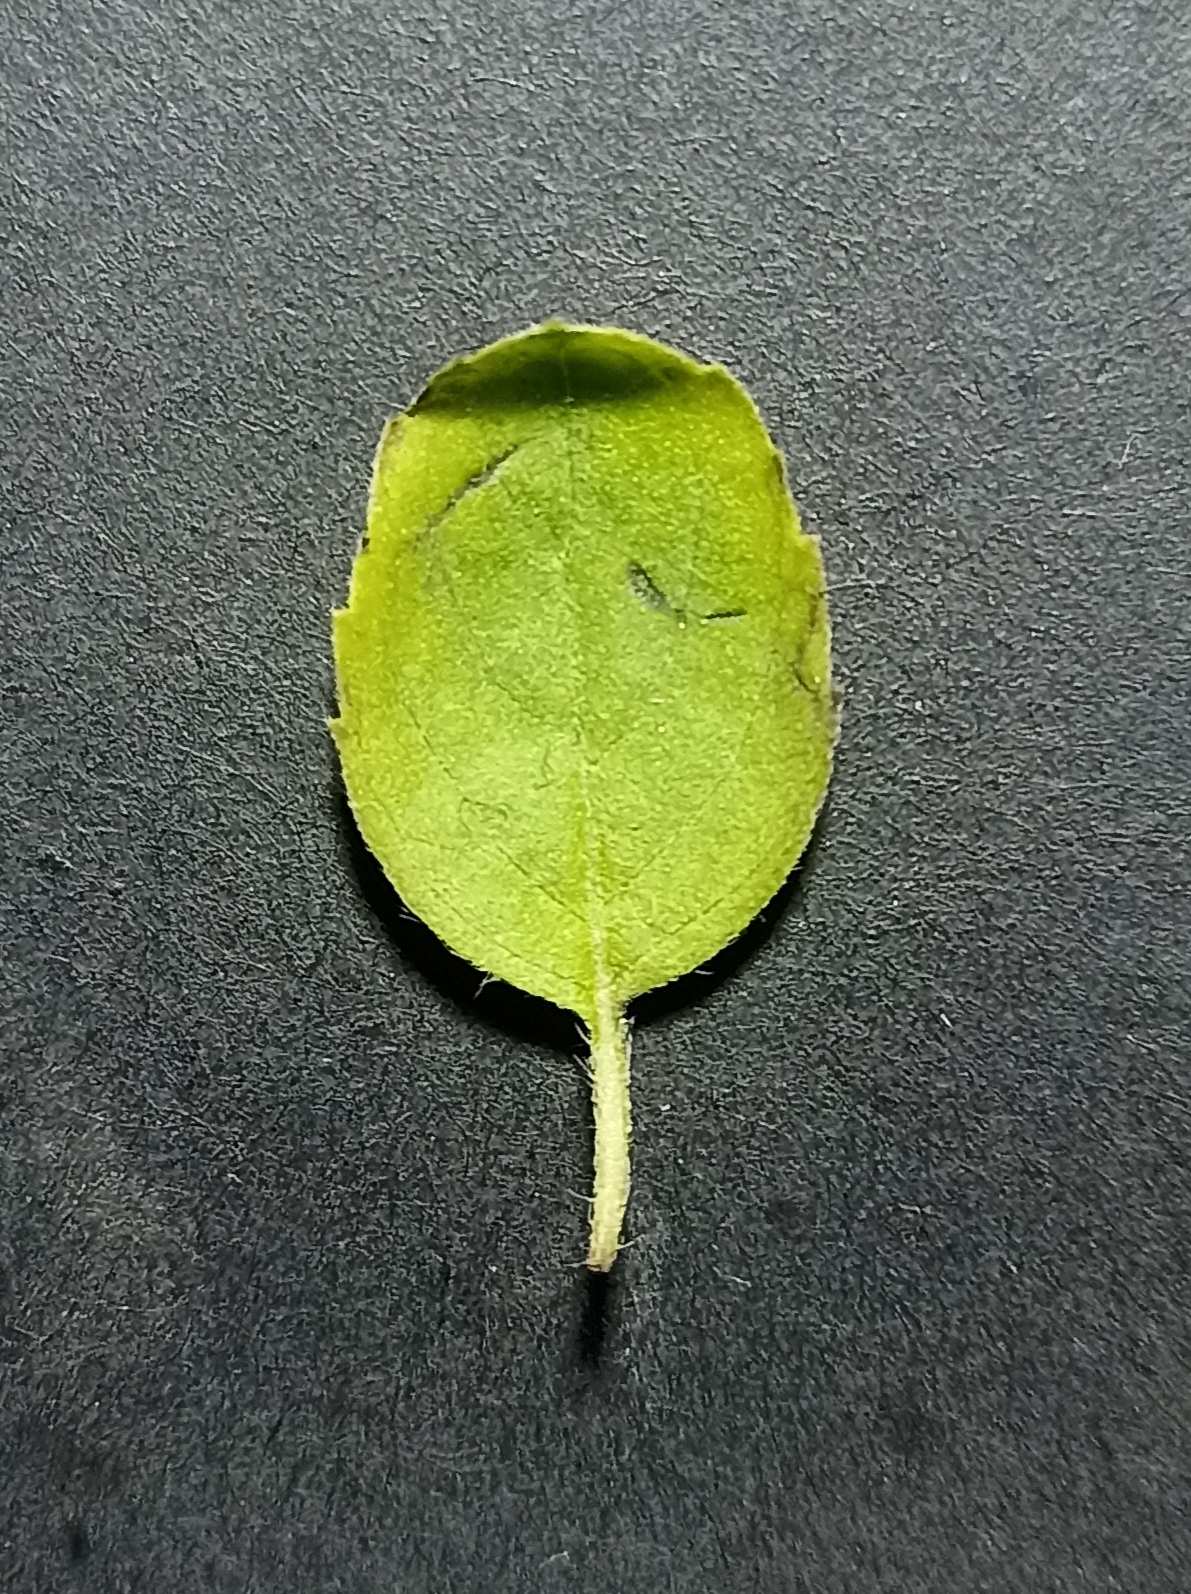Healthy: (312, 302, 856, 1014)
